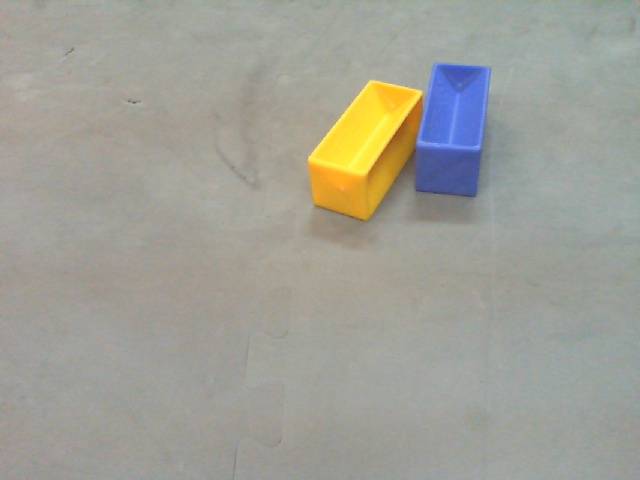BlueSample: (415, 58, 493, 198)
YellowSample: (304, 78, 425, 230)
